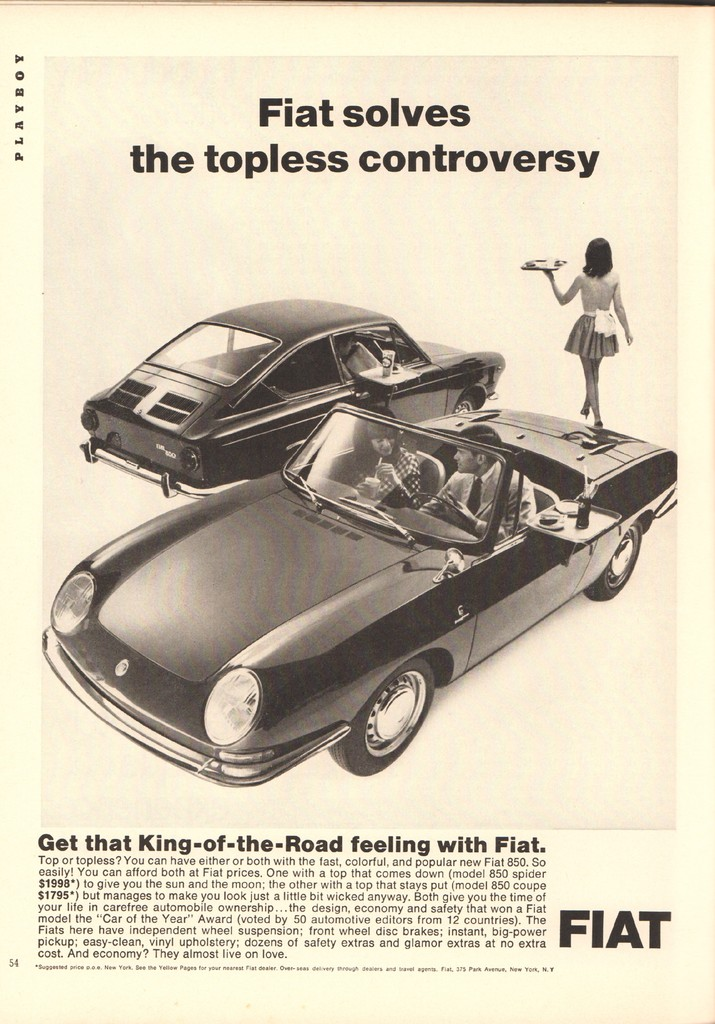mobil: (48, 422, 674, 807), (81, 294, 501, 476)
